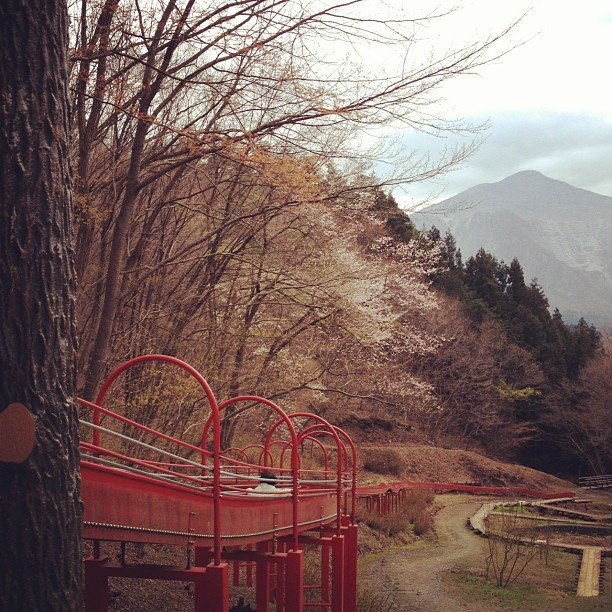mountain: (388, 150, 612, 262)
sky: (307, 1, 612, 151)
tree: (66, 1, 388, 478)
